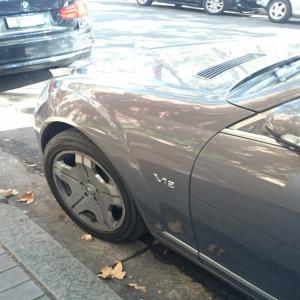Vehicle-registration-plate: (4, 16, 46, 29)
